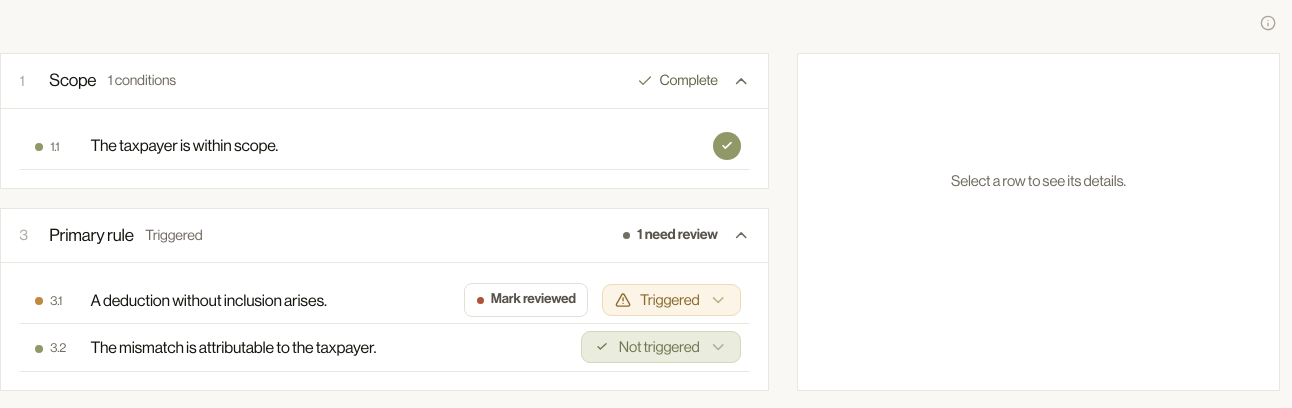
Test: ChecklistV2 — Part B resting state + panel › Escape closes the panel
This screenshot has width=1292, height=408.
Step 1. Click the text "A deduction without inclusion arises." → (209, 300), box [90,291,327,310]
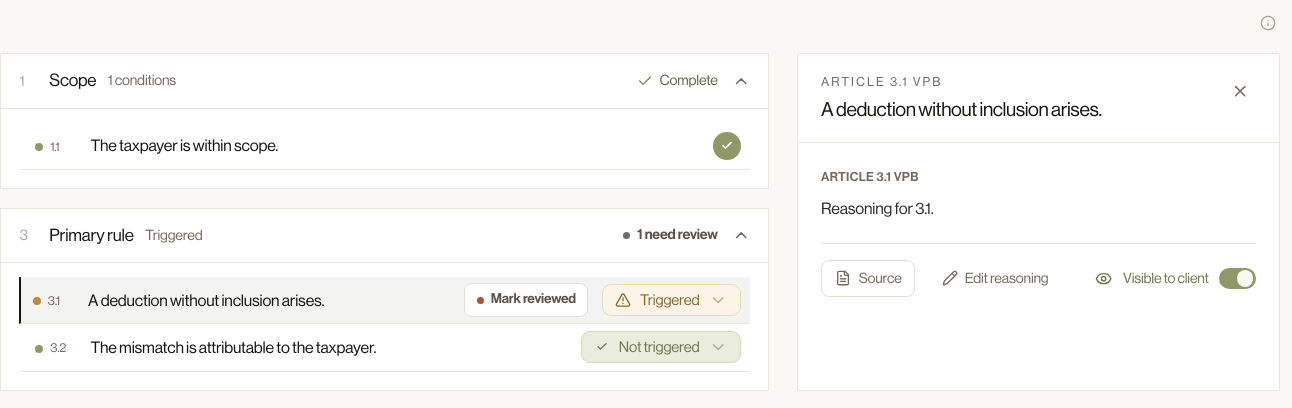
Now the element that starts with "Article 3.1 Vpb" shows "Reasoning for 3.1.", box [821,198,934,218]
Step 2. Press Escape
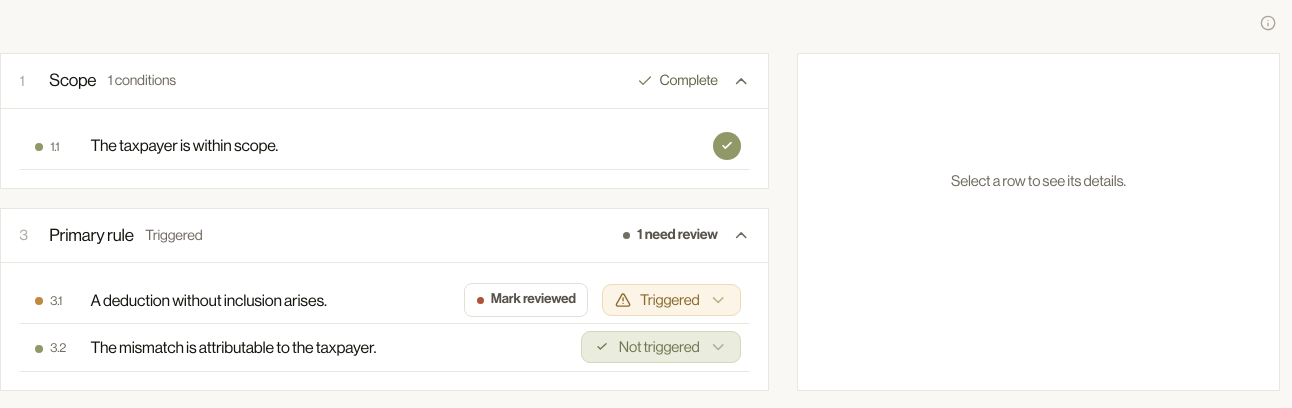
Now the text "Reasoning for 3.1." is gone
